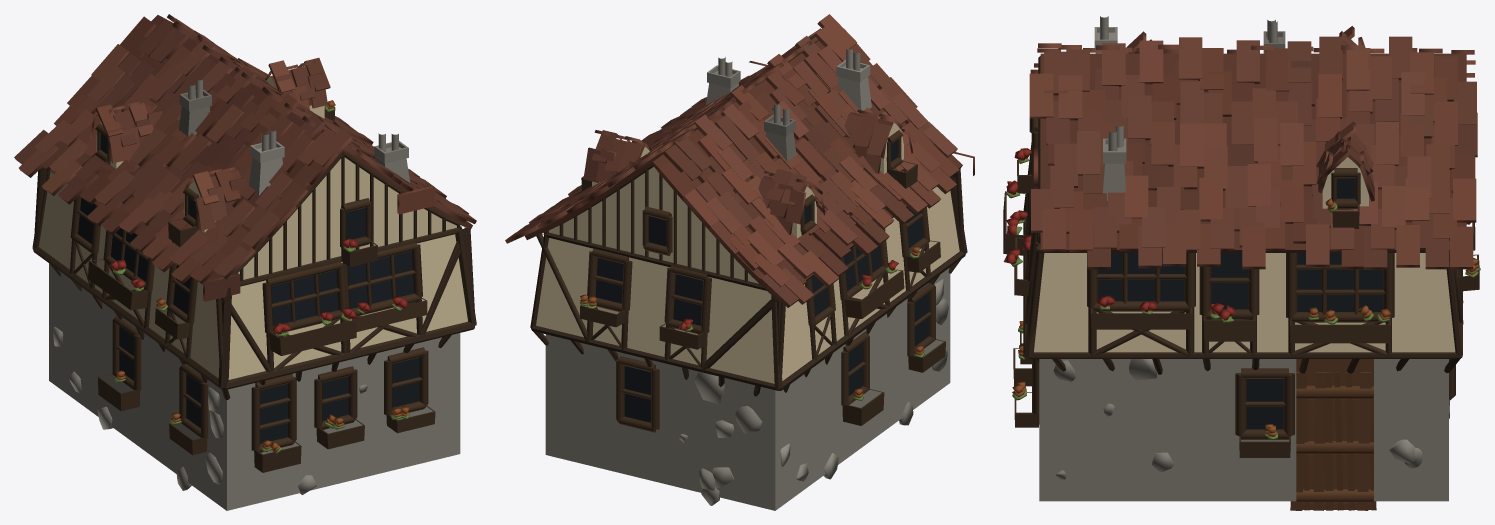
Rendered from house_20.glb.
3 renders of one model, left to right at view 1: azimuth 30°, elevation 25°; view 2: azimuth 150°, elevation 25°; view 3: azimuth 270°, elevation 25°, orthographic. The views are drawn at different scales.
Parts seen in each view (by area): view 1: house_20; view 2: house_20; view 3: house_20.
Boxes of the visible parts, bbox=[...] form: house_20: bbox=[14, 14, 476, 510]; house_20: bbox=[505, 14, 974, 510]; house_20: bbox=[1003, 16, 1480, 510].
Size of the model in its own units: 5.41 by 6.27 by 6.58.
